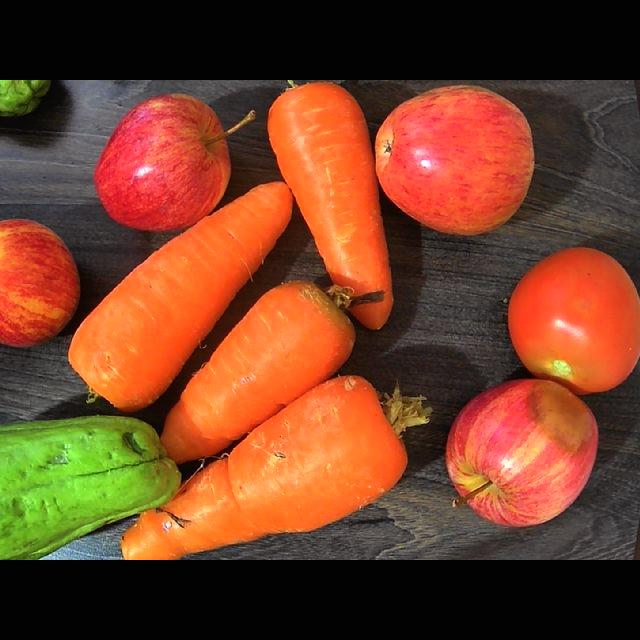chayote: (1, 415, 182, 559), (1, 80, 51, 117)
manzana: (376, 86, 535, 234), (447, 380, 599, 526), (95, 93, 255, 231), (1, 219, 80, 346)
tomate: (509, 247, 640, 393)
zanahoria: (123, 376, 430, 559), (69, 181, 292, 411), (162, 281, 355, 463), (269, 80, 394, 328)
